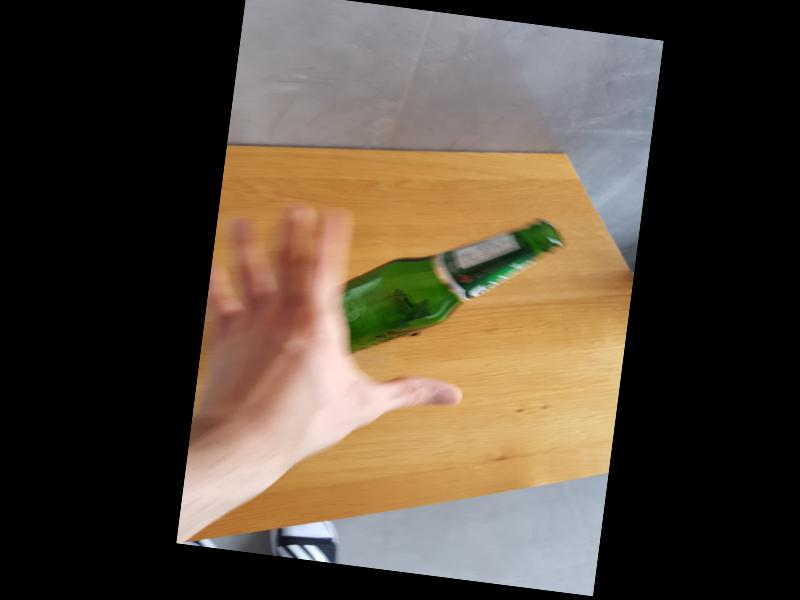Beer: (336, 196, 566, 379)
